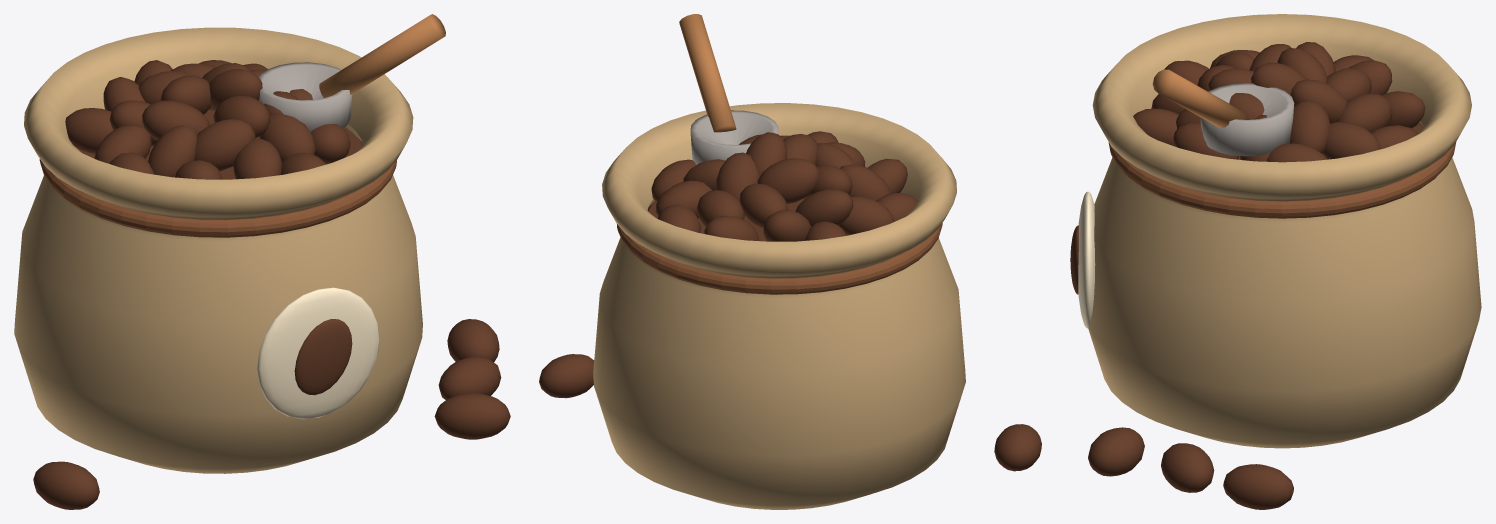
Rendered from bean_sack.fbx.
The picture shows the model from 3 angles, left to right: view 1: azimuth 30°, elevation 25°; view 2: azimuth 150°, elevation 25°; view 3: azimuth 270°, elevation 25°; orthographic projection. The views are drawn at different scales.
Parts seen in each view (by area): view 1: bean_sack_Sack, bean_sack_Coffee, bean_sack_Cream, bean_sack_WoodDark, bean_sack_StoneDark, bean_sack_Wood; view 2: bean_sack_Sack, bean_sack_Coffee, bean_sack_WoodDark, bean_sack_Wood, bean_sack_StoneDark; view 3: bean_sack_Sack, bean_sack_Coffee, bean_sack_WoodDark, bean_sack_StoneDark, bean_sack_Wood, bean_sack_Cream.
Boxes of the visible parts, x1,y1,x2,y2 form: bean_sack_Sack: (14,27,422,473); bean_sack_Coffee: (33,60,510,509); bean_sack_Cream: (257,287,379,419); bean_sack_WoodDark: (39,159,396,237); bean_sack_StoneDark: (258,62,352,131); bean_sack_Wood: (319,14,445,97); bean_sack_Sack: (593,103,965,509); bean_sack_Coffee: (539,131,1041,471); bean_sack_WoodDark: (617,223,942,294); bean_sack_Wood: (679,14,736,132); bean_sack_StoneDark: (690,110,778,164); bean_sack_Sack: (1088,14,1481,448); bean_sack_Coffee: (1070,42,1425,509); bean_sack_WoodDark: (1108,142,1456,218); bean_sack_StoneDark: (1200,83,1294,156); bean_sack_Wood: (1152,69,1245,127); bean_sack_Cream: (1078,191,1095,328).
Size of the model in its own units: 23.55 by 18.44 by 17.34.
